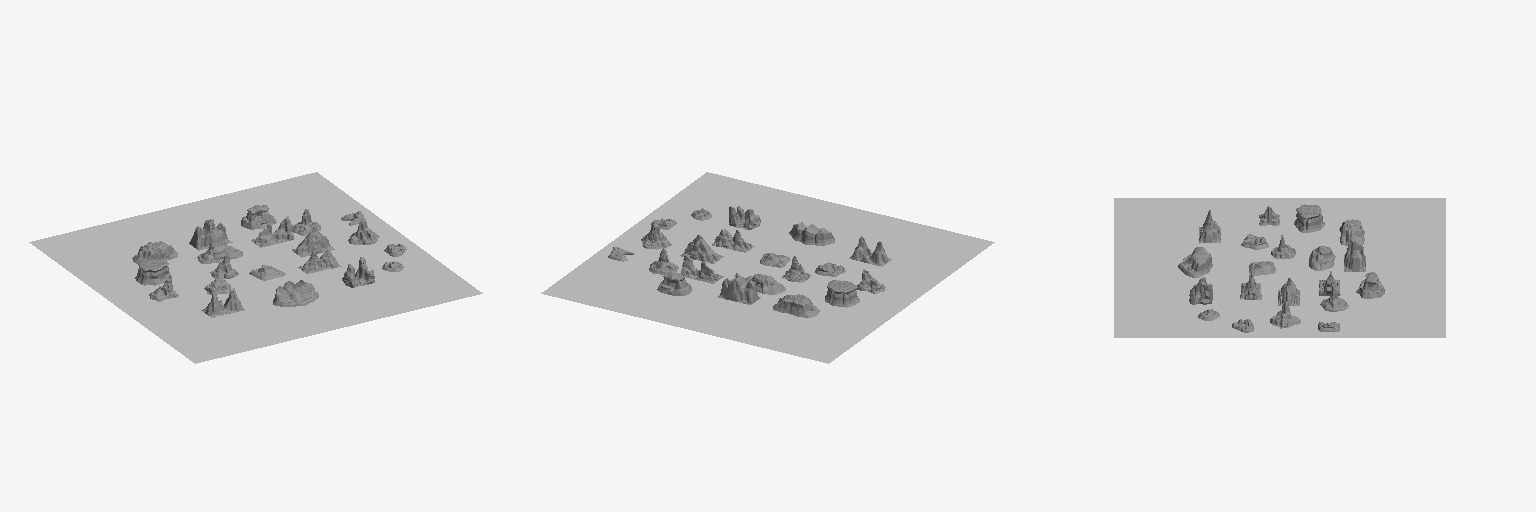
File: big.obj
The picture shows the model from 3 angles: view 1: azimuth 30°, elevation 25°; view 2: azimuth 150°, elevation 25°; view 3: azimuth 270°, elevation 25°; orthographic projection.
Visible parts, largest first — view 1: Plane_Plane.002, Plateau_winter_003_Mesh.012, Mountain_winter_001_Mesh.001, Plateau_winter_004_Mesh.013, Mountain_winter_004_Mesh.005, Plateau_winter_001_Mesh.010, Mountain_winter_003_Mesh.003, Mountain_winter_002_Mesh.002, Plateau_winter_002_Mesh.011, Plateau_winter_005_Mesh.019, Mountain_winter_007_Mesh.004, Mountain_winter_005_Mesh.006; view 2: Plane_Plane.002, Mountain_winter_001_Mesh.001, Plateau_winter_001_Mesh.010, Plateau_winter_004_Mesh.013, Plateau_winter_003_Mesh.012, Mountain_winter_002_Mesh.002, Mountain_winter_004_Mesh.005, Plateau_winter_005_Mesh.019, Mountain_winter_003_Mesh.003, Mountain_winter_007_Mesh.004, Mountain_winter_005_Mesh.006; view 3: Plane_Plane.002, Plateau_winter_003_Mesh.012, Plateau_winter_004_Mesh.013, Mountain_winter_001_Mesh.001.
Boxes of the visible parts, box(x1,y1,x2,y2) form: Plane_Plane.002: box(29, 172, 482, 363); Plateau_winter_003_Mesh.012: box(273, 280, 318, 306); Mountain_winter_001_Mesh.001: box(189, 219, 232, 250); Plateau_winter_004_Mesh.013: box(135, 259, 171, 285); Mountain_winter_004_Mesh.005: box(251, 216, 293, 247); Plateau_winter_001_Mesh.010: box(132, 241, 177, 263); Mountain_winter_003_Mesh.003: box(292, 227, 334, 257); Mountain_winter_002_Mesh.002: box(201, 288, 244, 317); Plateau_winter_002_Mesh.011: box(197, 242, 242, 263); Plateau_winter_005_Mesh.019: box(241, 205, 276, 229); Mountain_winter_007_Mesh.004: box(342, 257, 374, 287); Mountain_winter_005_Mesh.006: box(298, 250, 341, 273); Plane_Plane.002: box(541, 172, 994, 363); Mountain_winter_001_Mesh.001: box(718, 273, 760, 304); Plateau_winter_001_Mesh.010: box(773, 294, 820, 317); Plateau_winter_004_Mesh.013: box(825, 280, 859, 307); Plateau_winter_003_Mesh.012: box(789, 222, 834, 245); Mountain_winter_002_Mesh.002: box(849, 236, 891, 266); Mountain_winter_004_Mesh.005: box(681, 253, 723, 283); Plateau_winter_005_Mesh.019: box(657, 272, 691, 295); Mountain_winter_003_Mesh.003: box(680, 235, 723, 263); Mountain_winter_007_Mesh.004: box(729, 206, 760, 229); Mountain_winter_005_Mesh.006: box(712, 229, 754, 252); Plane_Plane.002: box(1114, 198, 1445, 337); Plateau_winter_003_Mesh.012: box(1178, 247, 1212, 277); Plateau_winter_004_Mesh.013: box(1294, 204, 1324, 232); Mountain_winter_001_Mesh.001: box(1344, 239, 1365, 271).
Size of the model in its own units: 352 by 27.91 by 352.